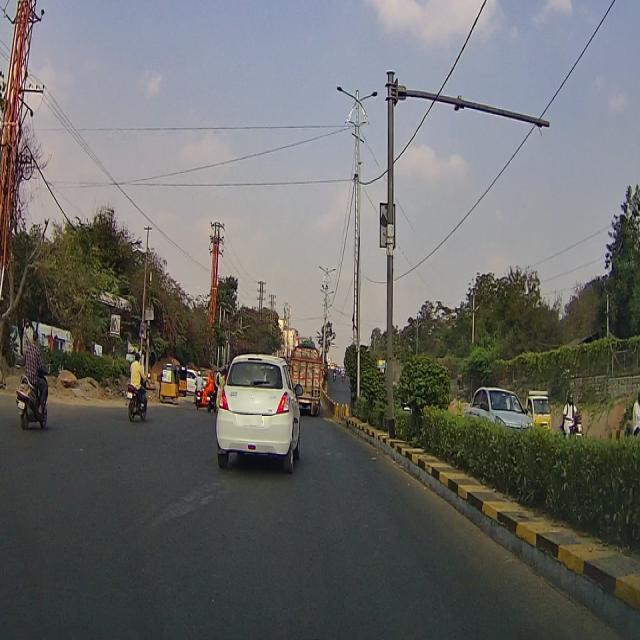side-road-left: (110, 313, 121, 334)
